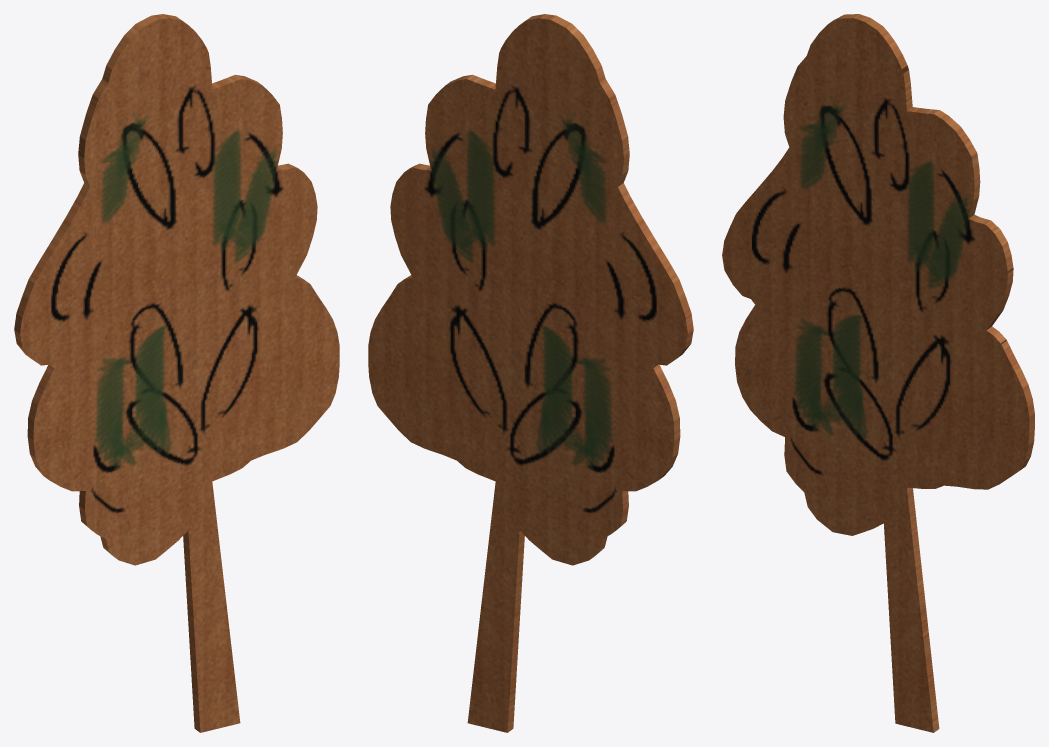
Rendered from tree_3.FBX.
3 views of the same model, side by side, from view 1: azimuth 30°, elevation 25°; view 2: azimuth 150°, elevation 25°; view 3: azimuth 330°, elevation 25° (orthographic). The views are drawn at different scales.
Visible parts, largest first — view 1: tree_3; view 2: tree_3; view 3: tree_3.
Part boxes in pixels (x1,y1,x2,y2): tree_3: (14,14,339,732); tree_3: (368,14,693,732); tree_3: (722,14,1034,732).
Bounding box in the file's own units: 220 × 476 × 7.
1 material, 1 textured.
